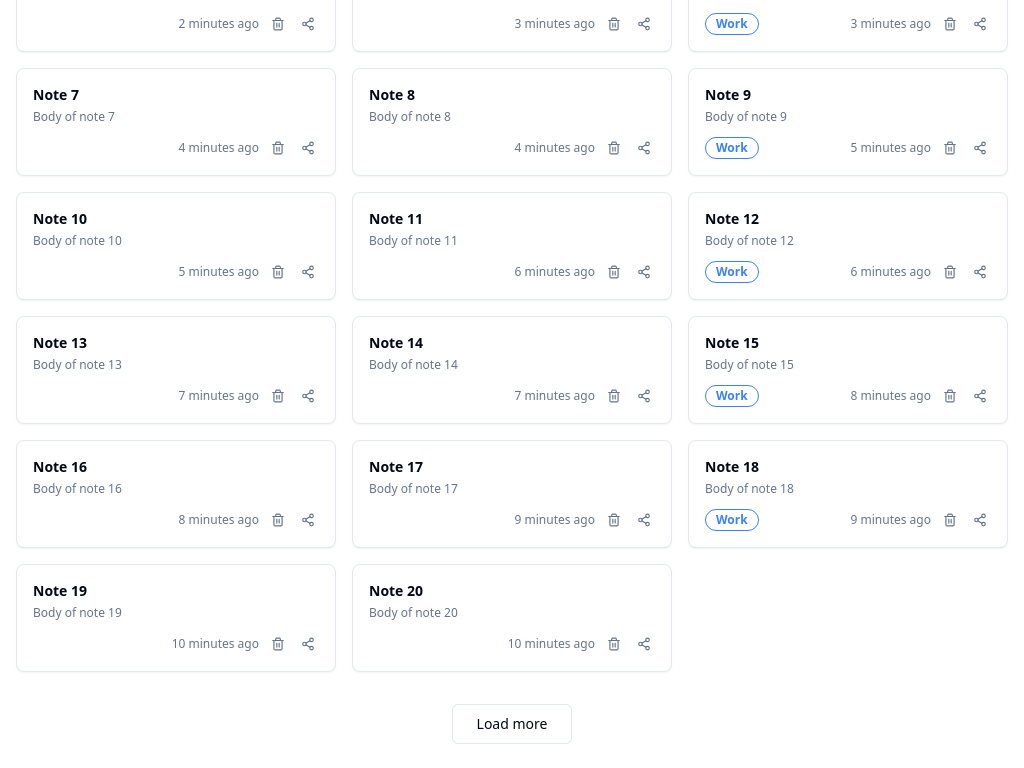
it: NotesPage › UI-NOTES-LIST-S2: load more appends next page
The image size is (1024, 768).
(page scrolled)
Expected: the heading "Note 20" is shown, x1=369 y1=581 x2=423 y2=600
Expected: the text "Note 21" is not shown
Note: Click "Load more"
Click the button "Load more".
click(512, 724)  # box x1=452 y1=704 x2=572 y2=744
(page scrolled)
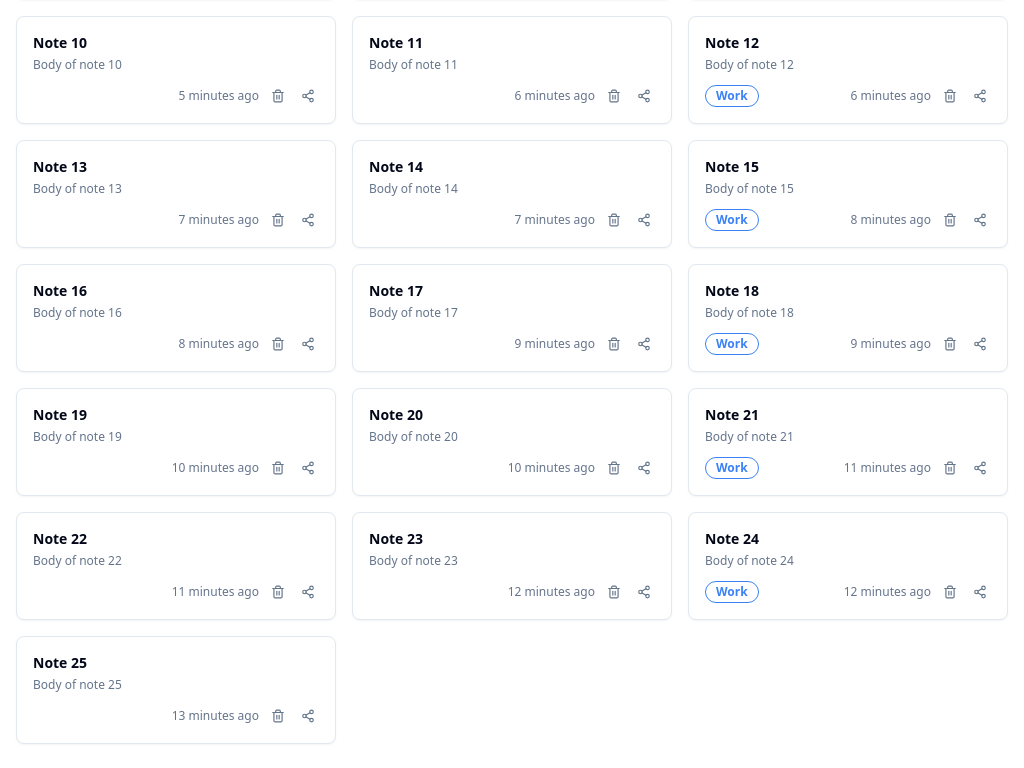
Result: the heading "Note 21" is shown at x1=705 y1=405 x2=759 y2=424
Result: the heading "Note 25" is shown at x1=33 y1=653 x2=87 y2=672
Result: the button "Load more" is gone
